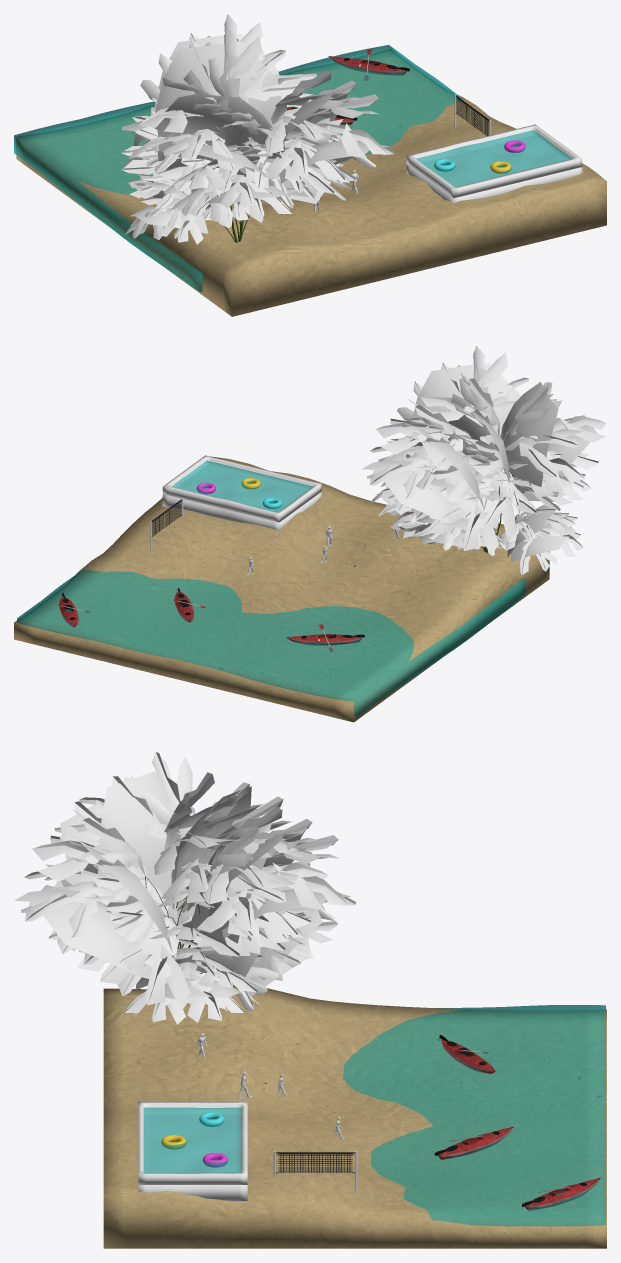
File: Plage.glb
The picture shows the model from 3 angles, top to bottom: view 1: azimuth 30°, elevation 25°; view 2: azimuth 150°, elevation 25°; view 3: azimuth 270°, elevation 25°; orthographic projection. The views are drawn at different scales.
Parts seen in each view (by area): view 1: Plane; view 2: Plane; view 3: Plane.
Part boxes in pixels (left/top/right/bottom): Plane: left=14, top=14, right=606, bottom=316; Plane: left=14, top=346, right=606, bottom=722; Plane: left=14, top=751, right=606, bottom=1248.
Bounding box in the file's own units: 0.1305 × 0.0689 × 0.1287.
Materials: 11 (3 with a texture image).
